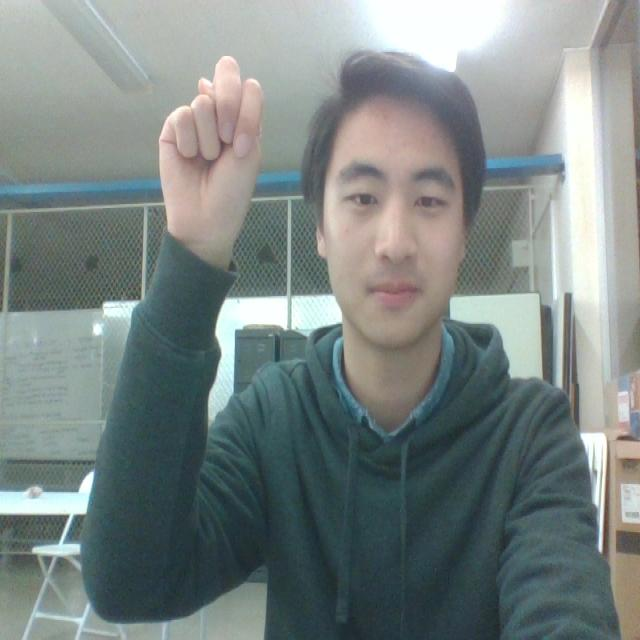N: (153, 26, 300, 280)
